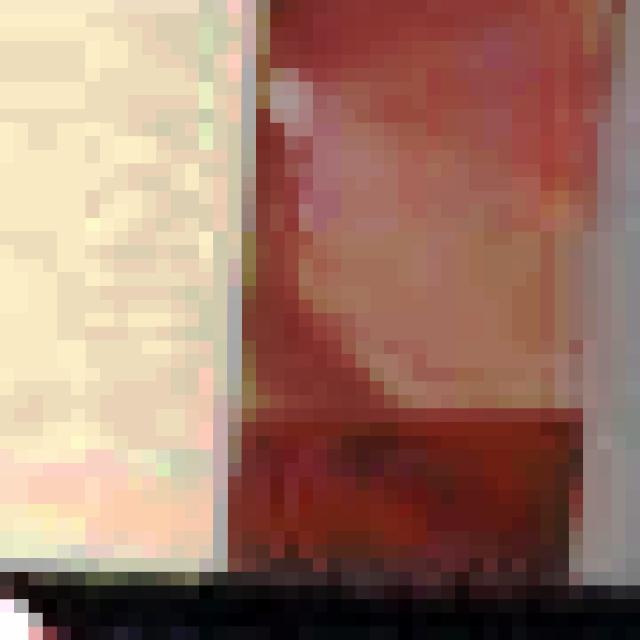arms: (0, 340, 640, 640)
